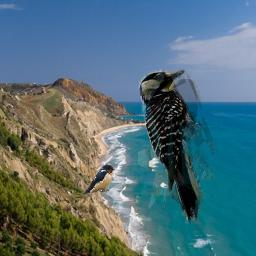Swallow: (81, 164, 116, 194)
Woodpecker: (138, 69, 215, 226)
